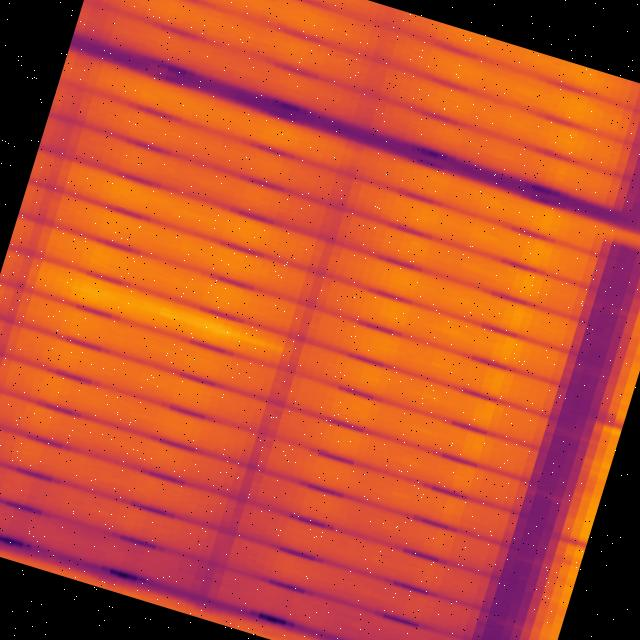Hotspot: (2, 250, 308, 378)
